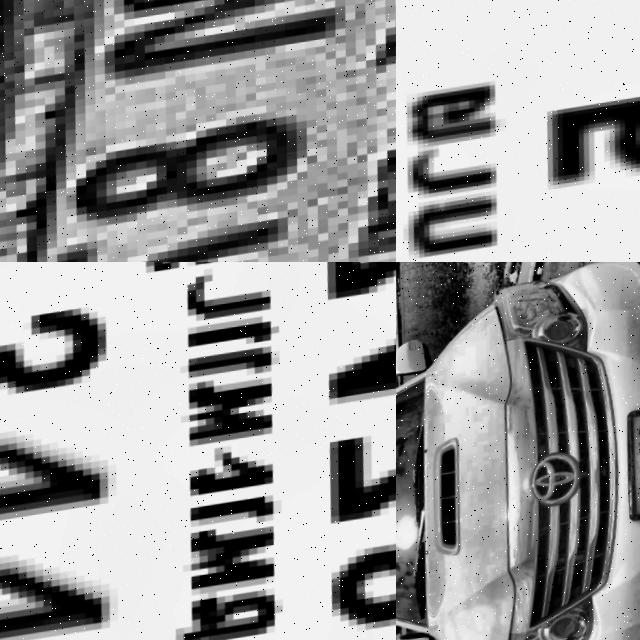license-plate: (0, 262, 396, 640), (0, 0, 396, 262), (396, 0, 640, 262), (620, 405, 640, 530)
